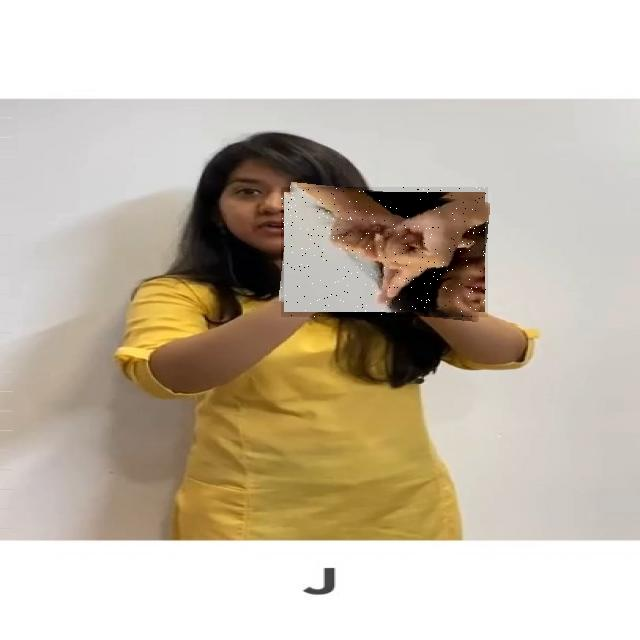J: (281, 187, 488, 317)
